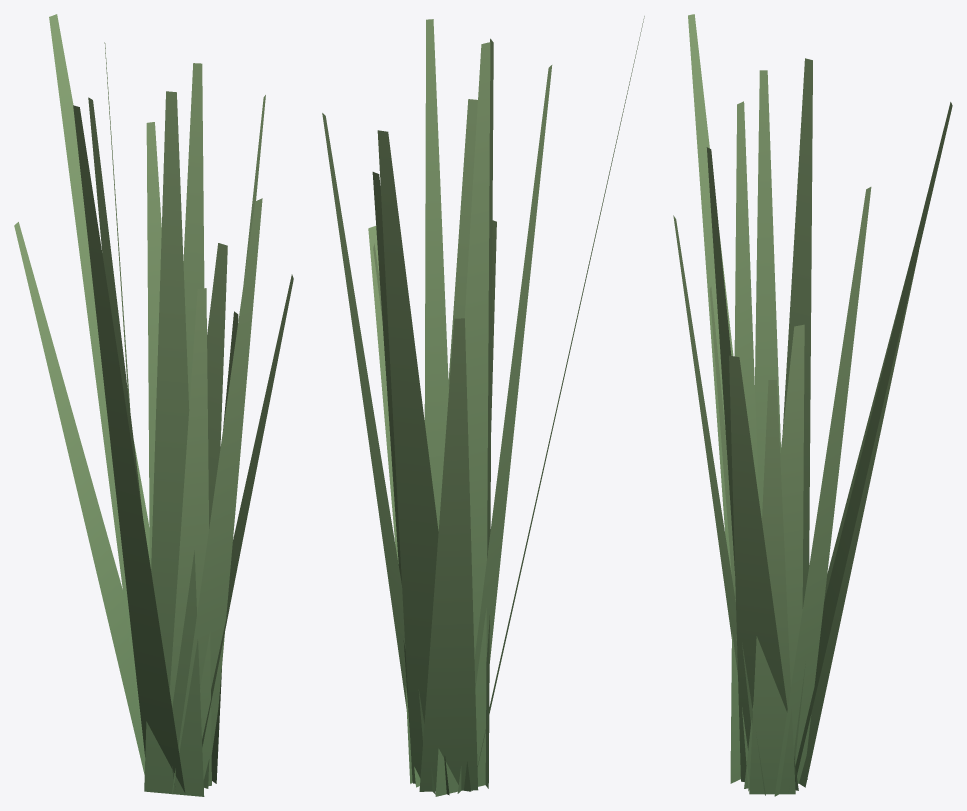
The model's file is grass_tuft.glb.
3 renders of one model, left to right at view 1: azimuth 30°, elevation 25°; view 2: azimuth 150°, elevation 25°; view 3: azimuth 270°, elevation 25°, orthographic. The views are drawn at different scales.
Visible parts, largest first — view 1: world; view 2: world; view 3: world.
Boxes of the visible parts, x1,y1,x2,y2 form: world: (14,14,293,796); world: (322,16,644,796); world: (673,14,952,796).
Size of the model in its own units: 0.4958 by 1.45 by 0.5237.
